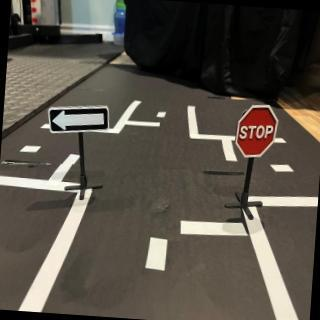sign_oneway_left: (47, 100, 112, 139)
sign_stop: (235, 103, 281, 160)
